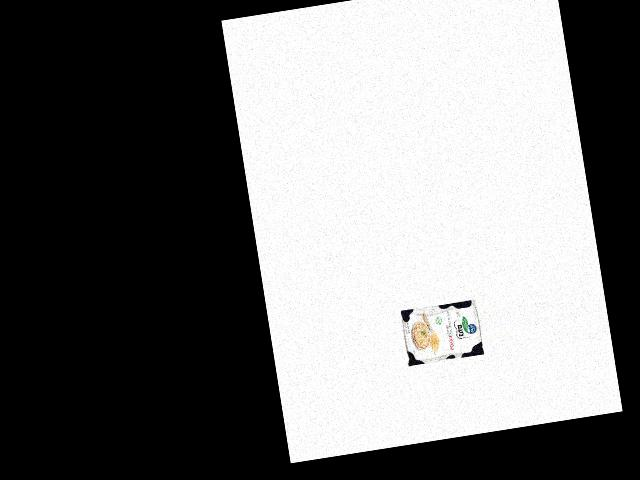cheese: (398, 298, 484, 368)
